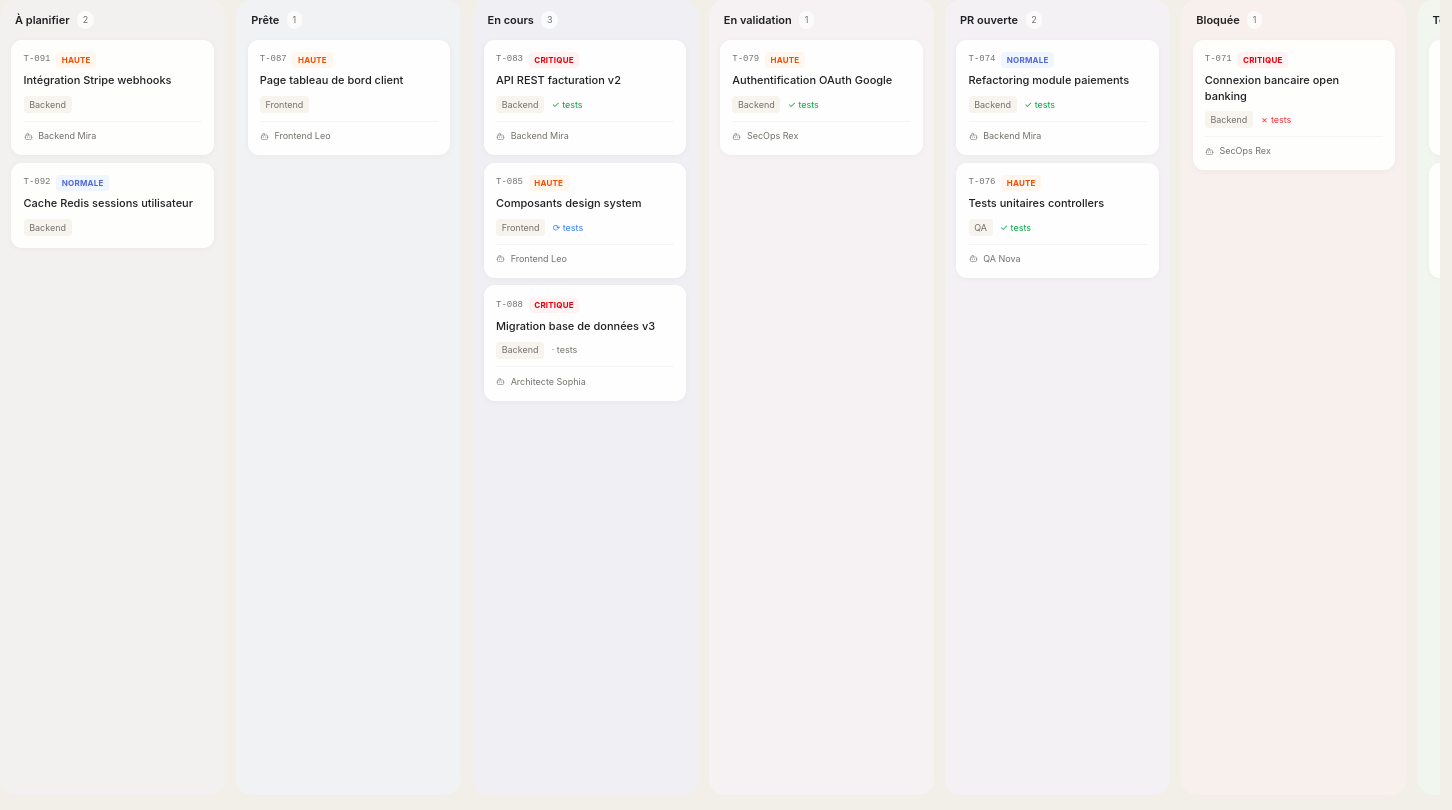
controls without fake behavior › disables mission actions in demo mode with an explicit notice
The image size is (1452, 810).
Click the text "API REST facturation v2": point(558, 80) [496, 73, 621, 87]
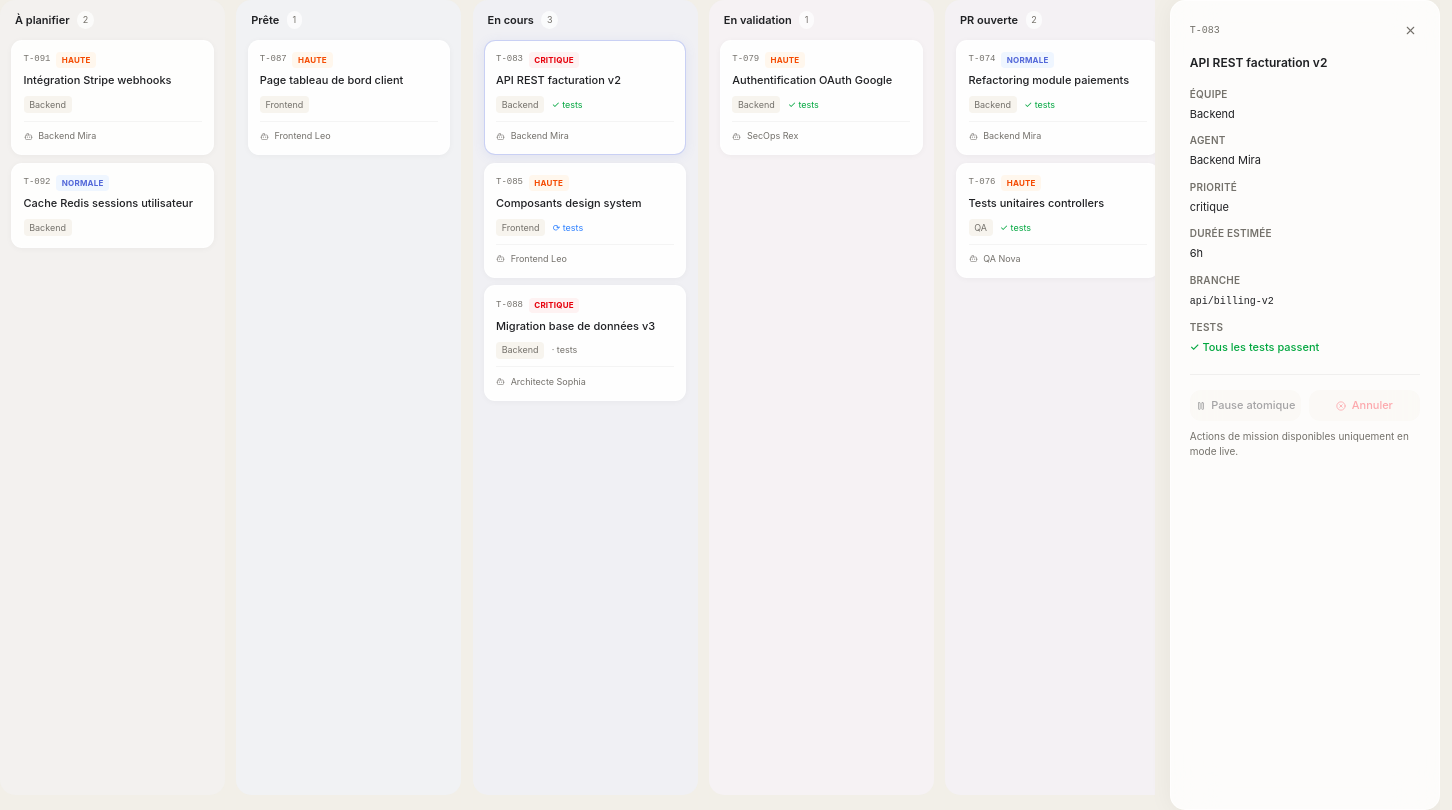
Expected: the button "Pause atomique" is disabled, [1190, 390, 1301, 421]
Expected: the button "Annuler" is disabled, [1309, 390, 1420, 421]
Expected: the text "Actions de mission disponibles uniquement en mode live." is shown, [1190, 429, 1420, 459]
